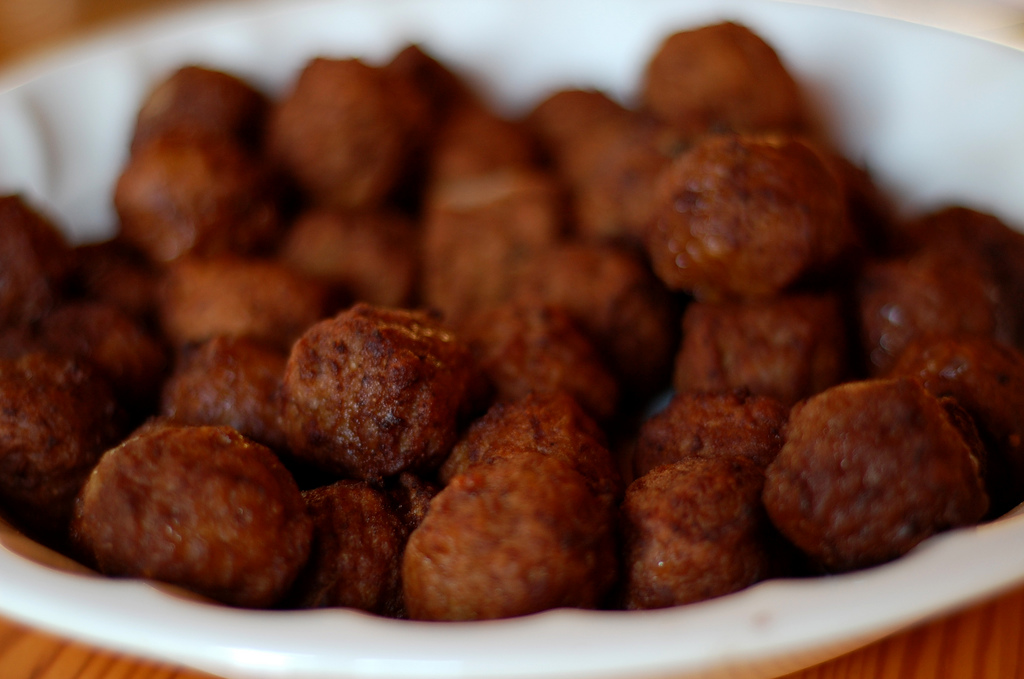meatballs: (150, 134, 875, 516)
